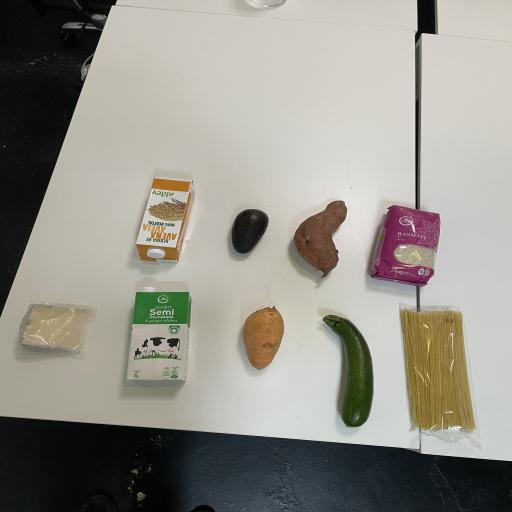avocado: (225, 203, 270, 262)
courgette: (320, 310, 379, 434)
cured_goat_cheese: (14, 296, 99, 361)
milk: (122, 284, 195, 390)
oat_milk: (132, 174, 201, 268)
rice: (367, 202, 441, 293)
spaghetti: (393, 300, 485, 438)
sweet_potato: (288, 192, 348, 287), (241, 302, 288, 374)
